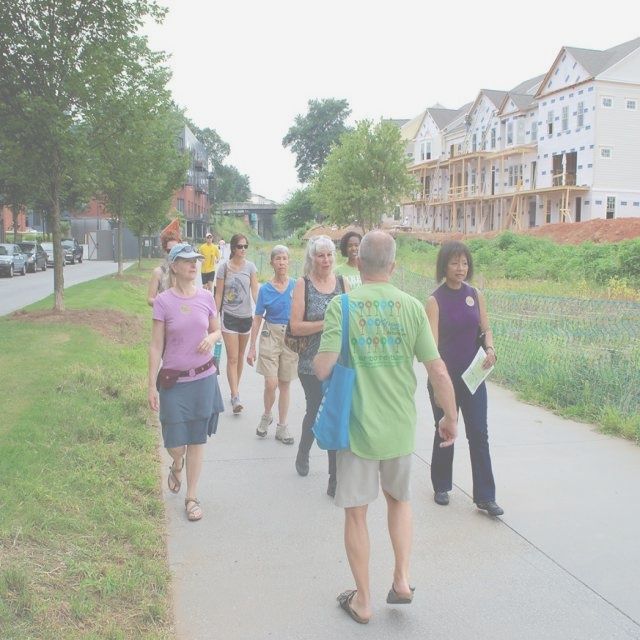pessoa: (310, 228, 462, 627), (418, 238, 508, 518), (146, 241, 222, 524), (289, 234, 352, 498), (145, 242, 217, 459), (246, 245, 300, 445), (213, 232, 260, 416), (331, 230, 364, 291), (197, 233, 220, 294), (460, 111, 472, 132), (218, 237, 228, 260), (348, 217, 362, 230), (402, 216, 410, 227), (280, 234, 288, 242)
